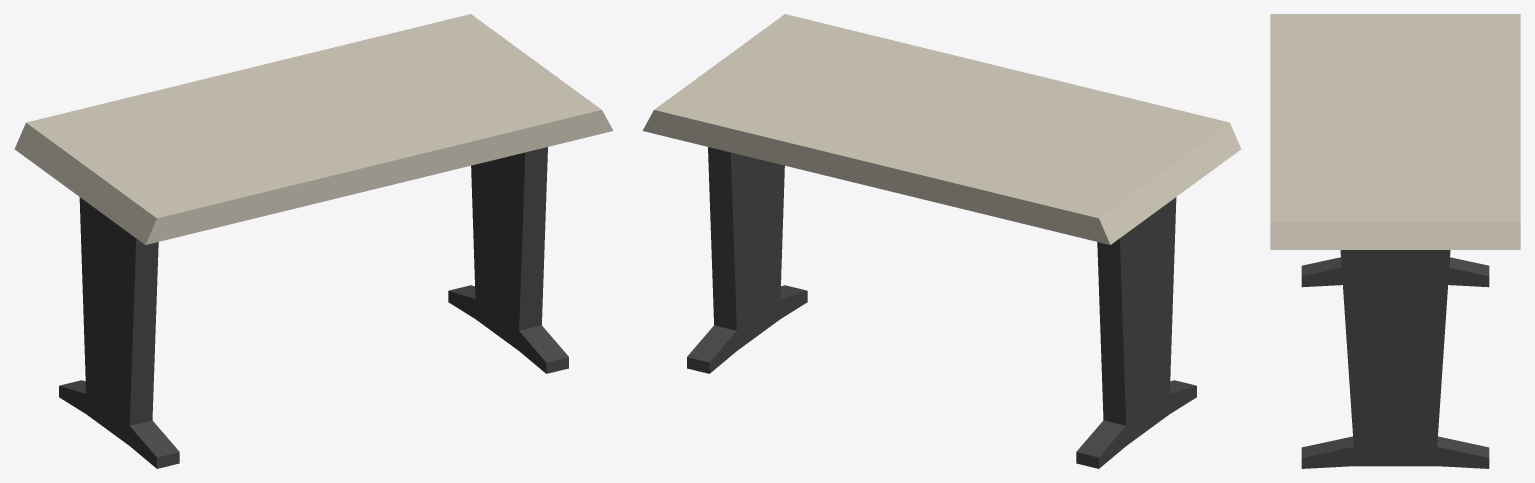
The model's file is Desk_1.fbx.
The picture shows the model from 3 angles, left to right: view 1: azimuth 30°, elevation 25°; view 2: azimuth 150°, elevation 25°; view 3: azimuth 270°, elevation 25°; orthographic projection. The views are drawn at different scales.
Visible parts, largest first — view 1: polySurface2332; view 2: polySurface2332; view 3: polySurface2332.
Part boxes in pixels (box(x1,y1,x2,y2)): polySurface2332: box(14, 14, 613, 468); polySurface2332: box(642, 14, 1241, 468); polySurface2332: box(1270, 14, 1520, 468).
Size of the model in its own units: 1.68 by 0.9158 by 0.8157.
Materials: 1 (1 with a texture image).
